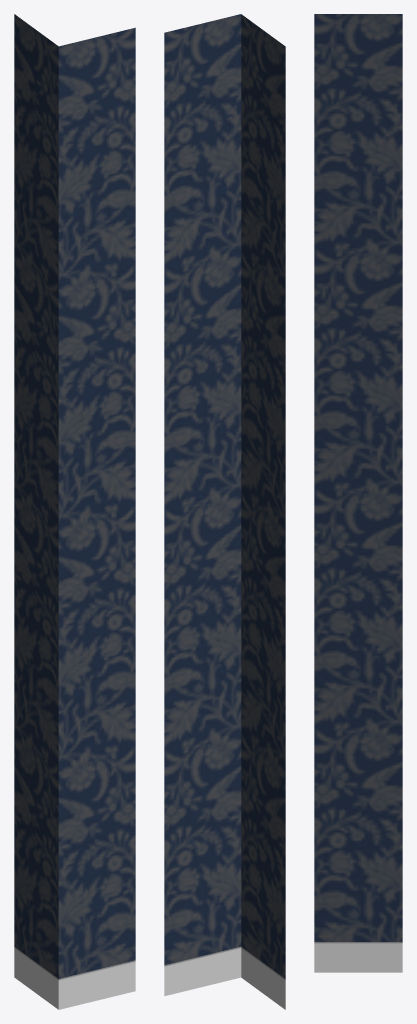
The model's file is indoorCorner.fbx.
3 views of the same model, side by side, from view 1: azimuth 30°, elevation 25°; view 2: azimuth 210°, elevation 25°; view 3: azimuth 270°, elevation 25° (orthographic).
Parts seen in each view (by area): view 1: indoorCorner; view 2: indoorCorner; view 3: indoorCorner.
Boxes of the visible parts, <box> form: indoorCorner: <box>14,14,135,1009</box>; indoorCorner: <box>164,14,285,1009</box>; indoorCorner: <box>314,14,402,972</box>.
Bounding box in the file's own units: 1 × 12 × 1.
Materials: 1 (1 with a texture image).
